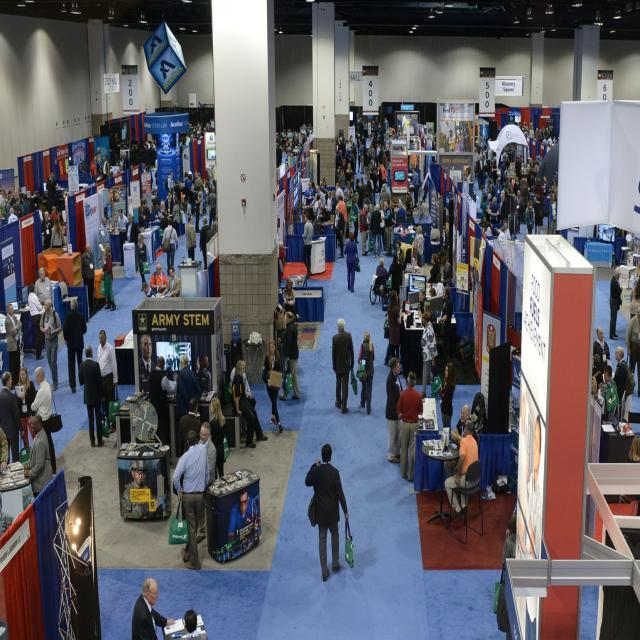body: (51, 103, 559, 231), (304, 443, 350, 582), (172, 430, 210, 570), (519, 375, 542, 558), (444, 418, 480, 520), (395, 368, 425, 483), (230, 359, 268, 449), (148, 356, 179, 466), (493, 513, 518, 640), (77, 344, 106, 448), (30, 366, 57, 475), (131, 576, 176, 640), (61, 296, 89, 395), (23, 414, 54, 500), (196, 421, 217, 545), (443, 403, 477, 479), (121, 459, 164, 519), (38, 298, 64, 392), (332, 317, 356, 415), (276, 308, 301, 402), (0, 370, 24, 466), (260, 338, 284, 434), (418, 309, 443, 400), (97, 329, 118, 434), (384, 357, 404, 464), (138, 331, 192, 370), (14, 366, 38, 448), (227, 487, 261, 542), (355, 329, 376, 416), (597, 363, 620, 441), (385, 289, 405, 376), (4, 302, 23, 390), (177, 396, 203, 459), (0, 426, 14, 542), (176, 353, 201, 416), (229, 355, 257, 409), (624, 306, 640, 396), (27, 282, 45, 362), (209, 396, 226, 480), (386, 288, 403, 366), (99, 245, 118, 313), (439, 361, 456, 435), (80, 240, 97, 314), (438, 286, 454, 364), (608, 265, 624, 341), (439, 120, 474, 154), (612, 346, 627, 424), (343, 230, 361, 293), (161, 218, 179, 278), (34, 266, 55, 313), (180, 607, 209, 640), (592, 326, 610, 376), (301, 211, 314, 280), (330, 204, 346, 260), (125, 212, 139, 272), (282, 277, 301, 321), (388, 252, 408, 293), (148, 261, 169, 299), (369, 202, 383, 258), (116, 208, 129, 267), (590, 353, 605, 402), (136, 232, 148, 292), (161, 265, 182, 298), (380, 200, 392, 256), (418, 300, 436, 336), (199, 216, 211, 270), (349, 195, 361, 245), (358, 203, 369, 257), (185, 214, 197, 261), (512, 188, 524, 235), (504, 499, 518, 538), (50, 215, 66, 249), (198, 354, 212, 392), (41, 210, 54, 250), (629, 274, 640, 320), (378, 202, 388, 252), (192, 184, 202, 233), (100, 216, 110, 264), (193, 173, 204, 216), (395, 239, 405, 286), (533, 193, 544, 235), (45, 173, 56, 214), (207, 185, 217, 229), (427, 253, 441, 284), (598, 222, 616, 245), (47, 169, 57, 209), (366, 203, 374, 253), (414, 225, 424, 265), (172, 196, 181, 240), (548, 193, 557, 235), (628, 433, 640, 464), (374, 256, 389, 280), (142, 196, 152, 230), (12, 194, 25, 220), (525, 199, 534, 235), (154, 200, 168, 223), (418, 287, 428, 319), (150, 194, 161, 222), (141, 280, 157, 299), (205, 222, 218, 244), (6, 187, 26, 201), (278, 241, 285, 279), (0, 185, 8, 217), (628, 258, 640, 279), (31, 191, 43, 211), (278, 257, 284, 291), (63, 186, 70, 214), (102, 156, 110, 180), (138, 205, 146, 229), (6, 193, 12, 224), (21, 194, 29, 217), (8, 207, 18, 225), (503, 219, 511, 241), (49, 205, 58, 222), (90, 159, 97, 180), (108, 168, 115, 189), (483, 222, 493, 236), (104, 154, 110, 177), (497, 225, 506, 240), (57, 211, 65, 227), (90, 154, 98, 168), (96, 157, 102, 174), (428, 287, 438, 297), (592, 354, 595, 368)
